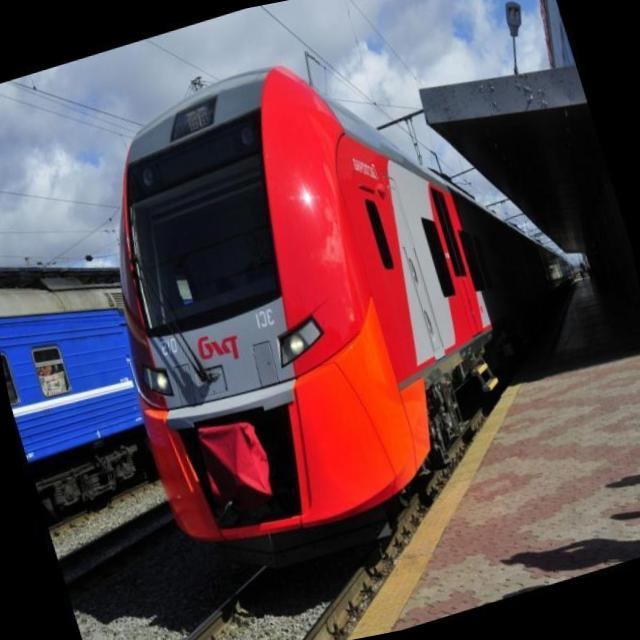trains: (119, 66, 566, 569)
